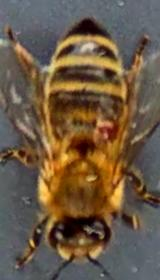varroa_mite: (85, 108, 123, 144)
